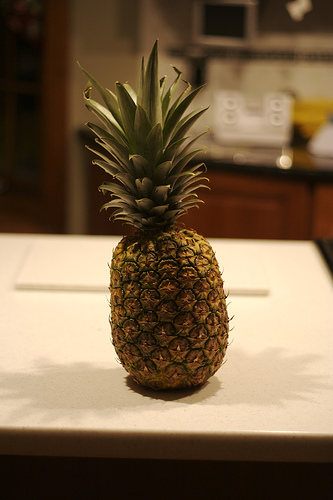pineapple: (75, 38, 231, 398)
